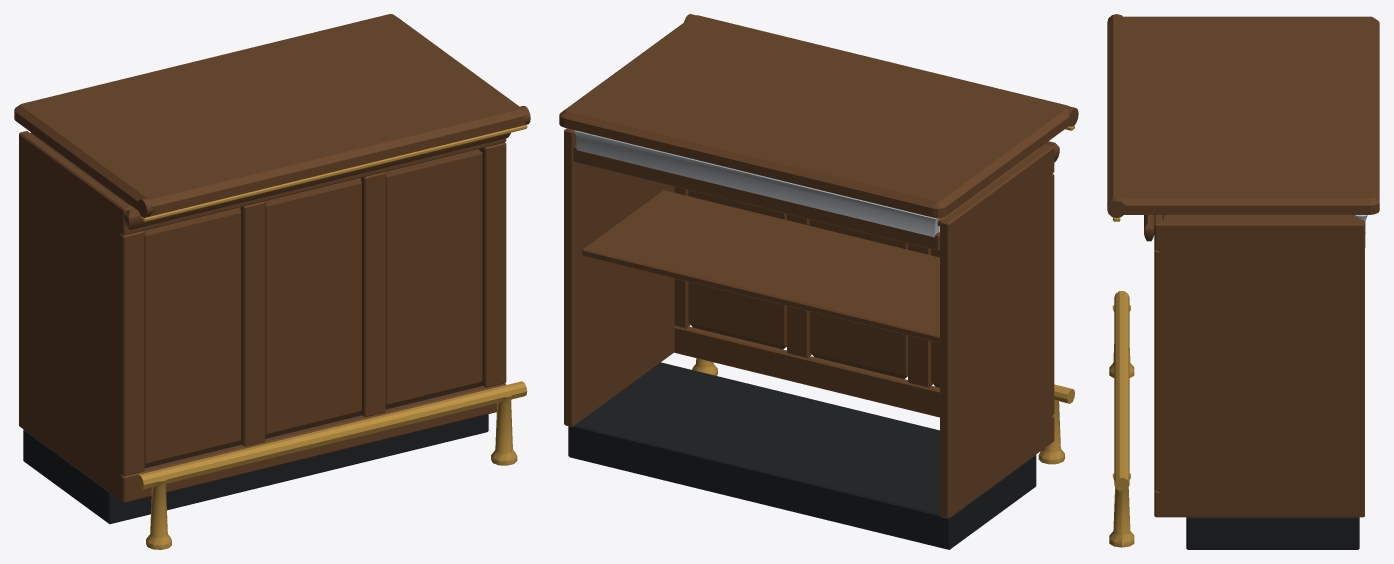
Rendered from BarCounter.obj.
3 renders of one model, left to right at view 1: azimuth 30°, elevation 25°; view 2: azimuth 150°, elevation 25°; view 3: azimuth 270°, elevation 25°, orthographic.
Parts seen in each view (by area): view 1: bar-counter-module_1, bar-counter-module_2, bar-counter-module_0; view 2: bar-counter-module_1, bar-counter-module_0, bar-counter-module_3, bar-counter-module_2; view 3: bar-counter-module_1, bar-counter-module_0, bar-counter-module_2.
Boxes of the visible parts, x1=… form: bar-counter-module_1: x1=14, y1=14, x2=530, y2=502; bar-counter-module_2: x1=136, y1=125, x2=527, y2=549; bar-counter-module_0: x1=23, y1=389, x2=488, y2=524; bar-counter-module_1: x1=559, y1=14, x2=1078, y2=518; bar-counter-module_0: x1=568, y1=362, x2=1036, y2=549; bar-counter-module_3: x1=574, y1=130, x2=940, y2=237; bar-counter-module_2: x1=692, y1=125, x2=1074, y2=464; bar-counter-module_1: x1=1107, y1=14, x2=1379, y2=517; bar-counter-module_0: x1=1186, y1=517, x2=1359, y2=549; bar-counter-module_2: x1=1109, y1=217, x2=1134, y2=547.
Bounding box in the file's own units: 1.2 × 1.05 × 0.74.
